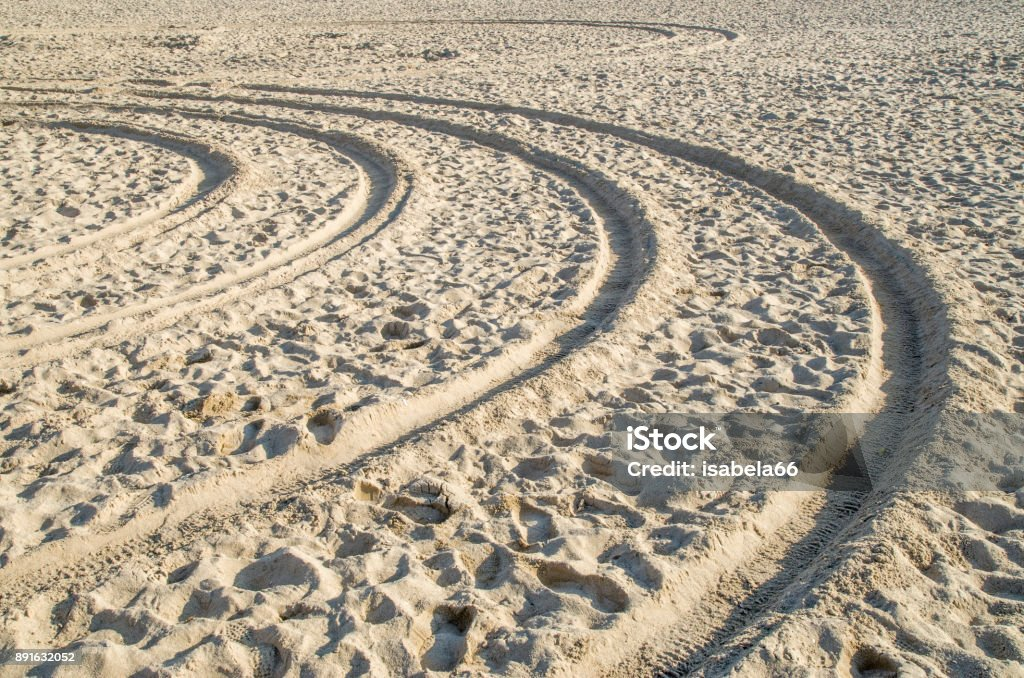vehicle_track: (0, 116, 653, 608), (249, 85, 947, 449), (341, 93, 947, 434), (0, 110, 411, 367), (0, 119, 243, 280)
